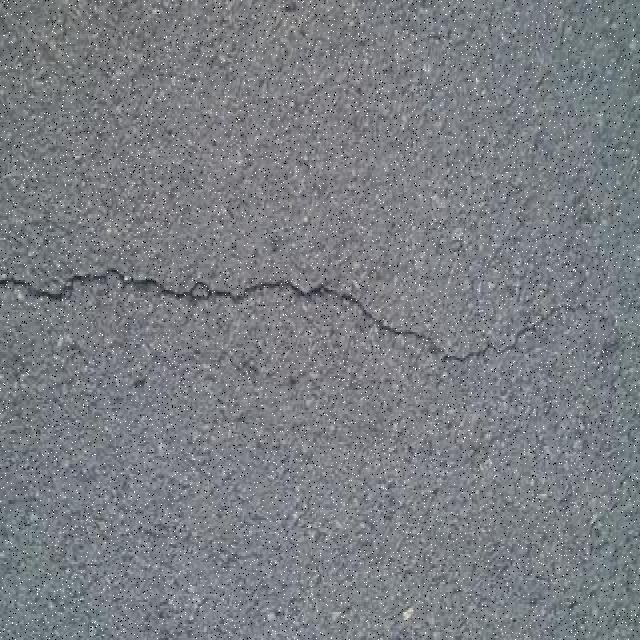moderate crack: (0, 267, 605, 363), (312, 285, 416, 338), (230, 276, 322, 300), (222, 344, 289, 376), (528, 64, 553, 97), (596, 332, 622, 356), (63, 338, 86, 355), (466, 438, 485, 457), (426, 341, 446, 354), (565, 596, 578, 612)
severe crack: (2, 0, 350, 280), (439, 322, 546, 362), (530, 300, 606, 324), (2, 274, 71, 295), (178, 278, 238, 299), (374, 320, 403, 336), (337, 290, 360, 302), (440, 351, 462, 362)
